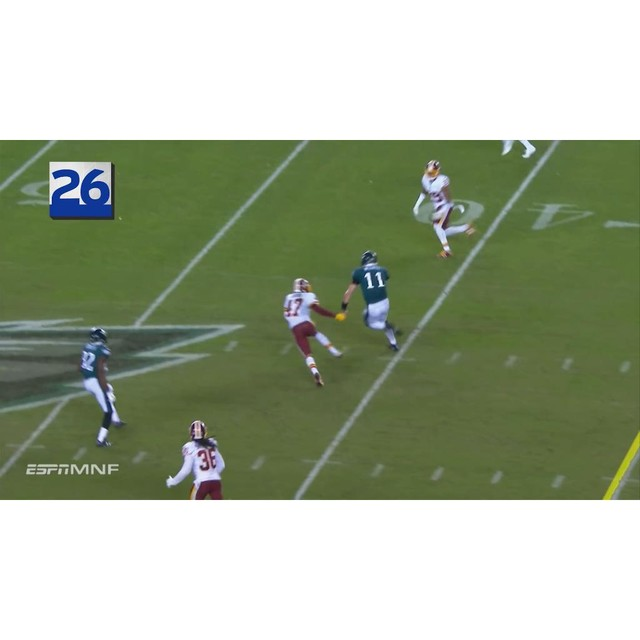american-football-player: (281, 279, 342, 386), (339, 251, 403, 352), (73, 328, 128, 445), (412, 161, 477, 258), (166, 419, 227, 500)
